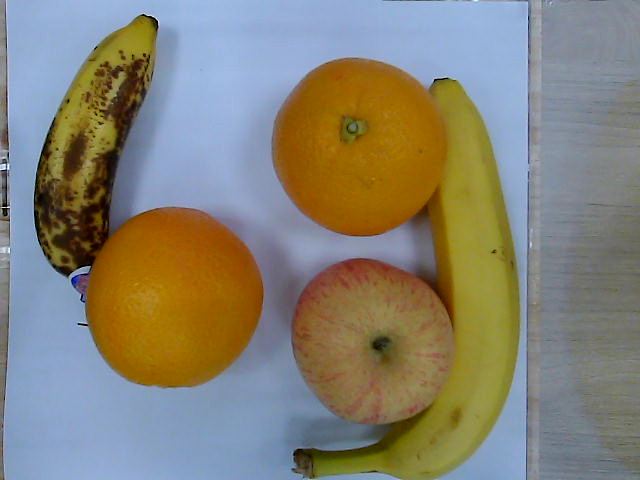fresh_apple: (292, 258, 449, 424)
fresh_banana: (383, 79, 519, 480)
fresh_orange: (82, 206, 262, 390), (273, 59, 443, 237)
rotten_banana: (33, 15, 161, 288)
